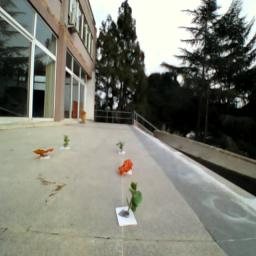herb: (126, 181, 144, 215), (64, 135, 71, 148), (117, 142, 126, 152)
wild: (118, 158, 135, 177), (34, 148, 56, 159)
